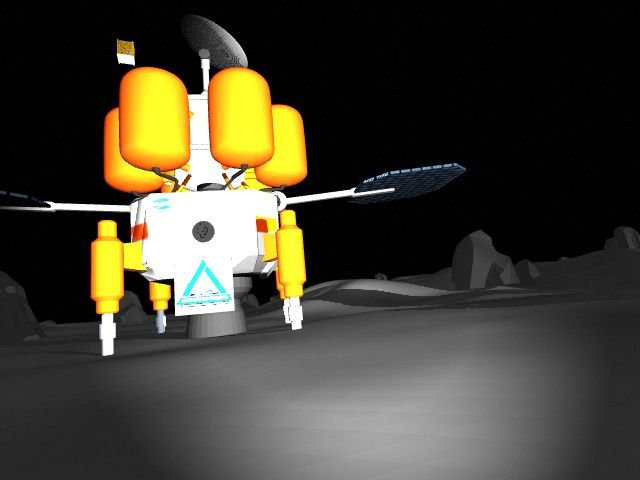basemarker: (174, 258, 237, 309)
